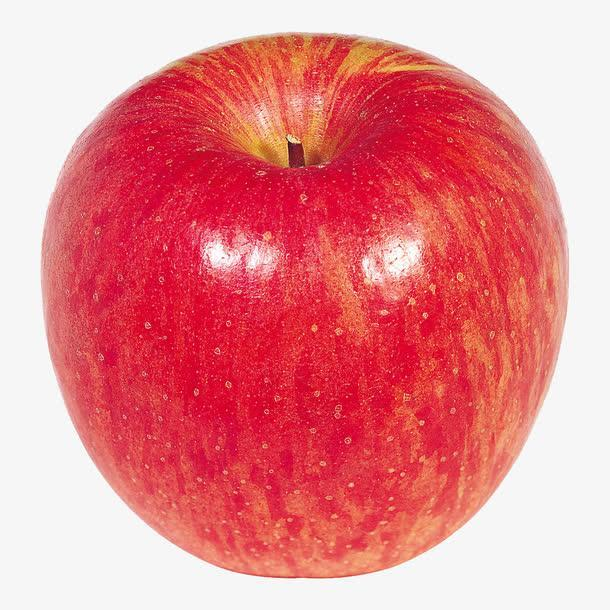apple: (36, 31, 567, 585)
